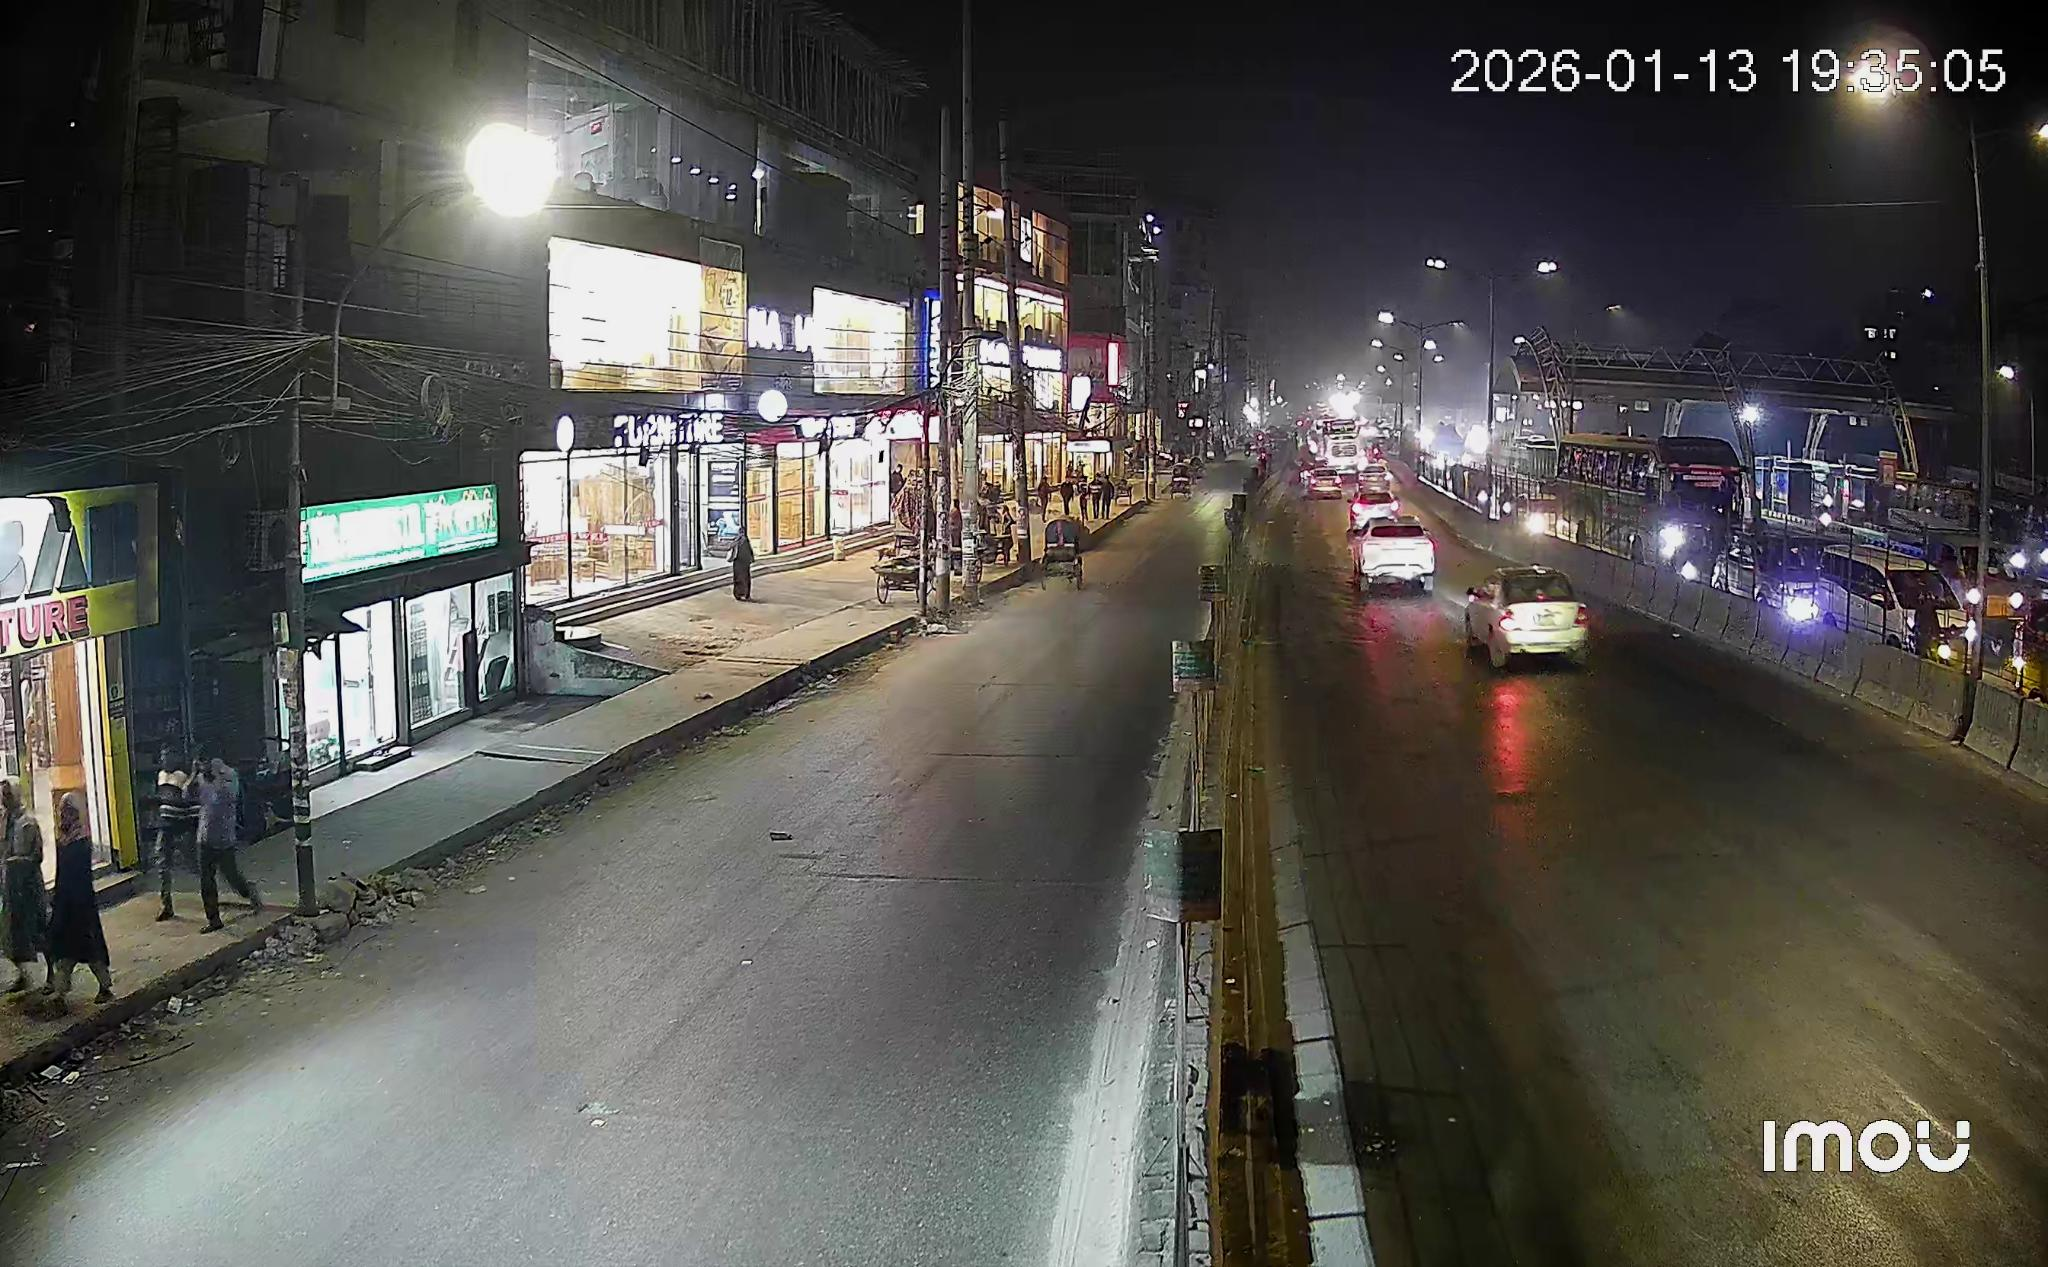Bus: (1535, 433, 1744, 574)
Cycle Rickshaw: (1040, 518, 1084, 590)
Jeep-SUV: (1807, 546, 1968, 653)
Private-Sedan Car: (1466, 566, 1589, 669), (1347, 516, 1435, 594)
